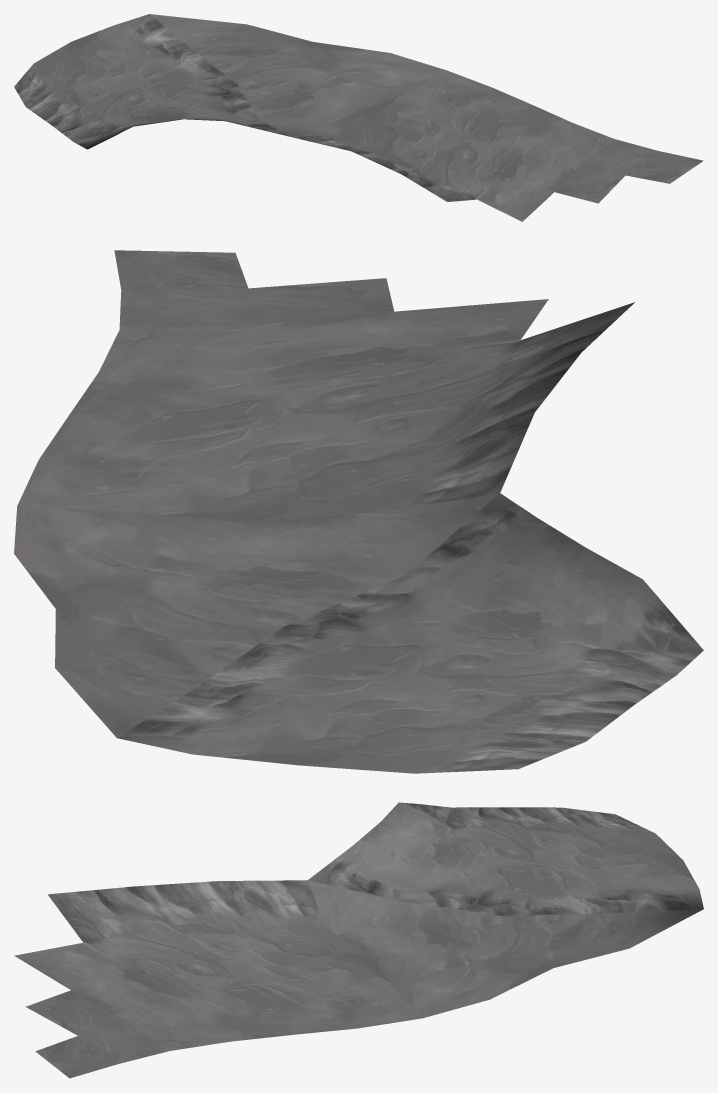
Rendered from SWORDLIGHT20_PS-AREA03_147.fbx.
3 views of the same model, one above another, from view 1: azimuth 30°, elevation 25°; view 2: azimuth 150°, elevation 25°; view 3: azimuth 270°, elevation 25° (orthographic). The views are drawn at different scales.
Visible parts, largest first — view 1: SWORDLIGHT20_PS-AREA03_147; view 2: SWORDLIGHT20_PS-AREA03_147; view 3: SWORDLIGHT20_PS-AREA03_147.
Part boxes in pixels (x1,y1,x2,y2): SWORDLIGHT20_PS-AREA03_147: (14,14,703,221); SWORDLIGHT20_PS-AREA03_147: (14,250,703,773); SWORDLIGHT20_PS-AREA03_147: (14,802,703,1078).
Bounding box in the file's own units: 140731 × 10500 × 157954.
3 materials, 3 textured.
